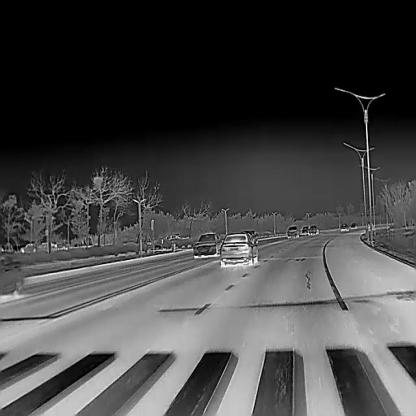car: (220, 233, 258, 265), (192, 233, 221, 258), (287, 226, 298, 237), (309, 224, 318, 234), (340, 222, 348, 232), (301, 226, 309, 235), (350, 223, 357, 228)
